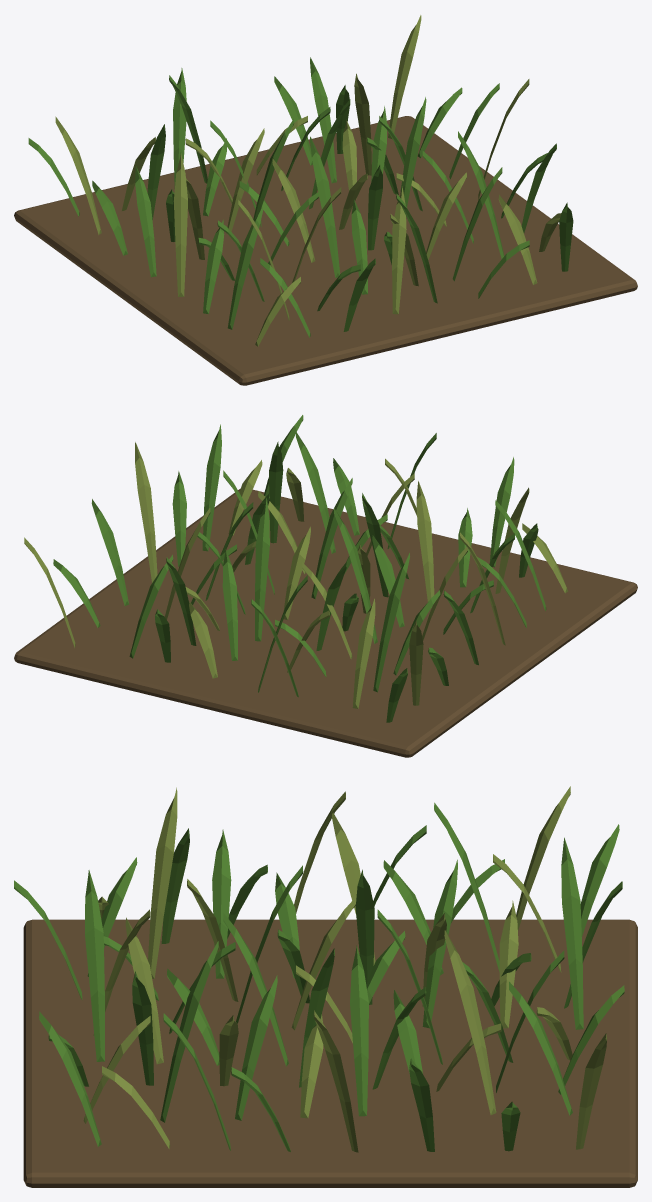
3 renders of one model, top to bottom at view 1: azimuth 30°, elevation 25°; view 2: azimuth 150°, elevation 25°; view 3: azimuth 270°, elevation 25°, orthographic. The views are drawn at different scales.
Parts seen in each view (by area): view 1: GRASS_Soil, GRASS_Blade_24, GRASS_Blade_19, GRASS_Blade_3, GRASS_Blade_32, GRASS_Blade_63, GRASS_Blade_8, GRASS_Blade_53, GRASS_Blade_29, GRASS_Blade_54, GRASS_Blade_58, GRASS_Blade_16 (+26 smaller); view 2: GRASS_Soil, GRASS_Blade_44, GRASS_Blade_39, GRASS_Blade_18, GRASS_Blade_49, GRASS_Blade_23, GRASS_Blade_52, GRASS_Blade_57, GRASS_Blade_2, GRASS_Blade_31, GRASS_Blade_14, GRASS_Blade_47 (+27 smaller); view 3: GRASS_Soil, GRASS_Blade_59, GRASS_Blade_4, GRASS_Blade_9, GRASS_Blade_38, GRASS_Blade_54, GRASS_Blade_14, GRASS_Blade_22, GRASS_Blade_43, GRASS_Blade_17, GRASS_Blade_51, GRASS_Blade_34 (+44 smaller).
Part boxes in pixels (x1,y1,x2,y2): GRASS_Soil: [14, 116, 637, 385]; GRASS_Blade_24: [173, 152, 187, 296]; GRASS_Blade_19: [310, 136, 340, 277]; GRASS_Blade_3: [392, 186, 406, 314]; GRASS_Blade_32: [135, 166, 156, 277]; GRASS_Blade_63: [388, 15, 421, 139]; GRASS_Blade_8: [227, 206, 263, 329]; GRASS_Blade_53: [310, 57, 336, 183]; GRASS_Blade_29: [400, 97, 426, 206]; GRASS_Blade_54: [354, 73, 371, 175]; GRASS_Blade_58: [173, 68, 186, 188]; GRASS_Blade_16: [203, 219, 224, 314]; GRASS_Soil: [14, 488, 637, 757]; GRASS_Blade_44: [255, 498, 269, 641]; GRASS_Blade_39: [135, 442, 157, 582]; GRASS_Blade_18: [416, 481, 434, 608]; GRASS_Blade_49: [373, 553, 409, 692]; GRASS_Blade_23: [202, 424, 221, 551]; GRASS_Blade_52: [222, 549, 237, 660]; GRASS_Blade_57: [352, 598, 375, 708]; GRASS_Blade_2: [490, 457, 514, 567]; GRASS_Blade_31: [172, 471, 186, 566]; GRASS_Blade_14: [269, 441, 283, 543]; GRASS_Blade_47: [91, 499, 129, 605]; GRASS_Soil: [23, 919, 637, 1187]; GRASS_Blade_59: [561, 837, 583, 1029]; GRASS_Blade_4: [85, 870, 104, 1061]; GRASS_Blade_9: [148, 787, 177, 978]; GRASS_Blade_38: [350, 945, 368, 1116]; GRASS_Blade_54: [444, 930, 496, 1114]; GRASS_Blade_14: [160, 941, 218, 1122]; GRASS_Blade_22: [235, 975, 277, 1120]; GRASS_Blade_43: [422, 859, 457, 1028]; GRASS_Blade_17: [212, 829, 231, 978]; GRASS_Blade_51: [499, 900, 518, 1028]; GRASS_Blade_34: [355, 869, 374, 1004].
Size of the model in its own units: 0.911 by 0.29 by 0.9142.
